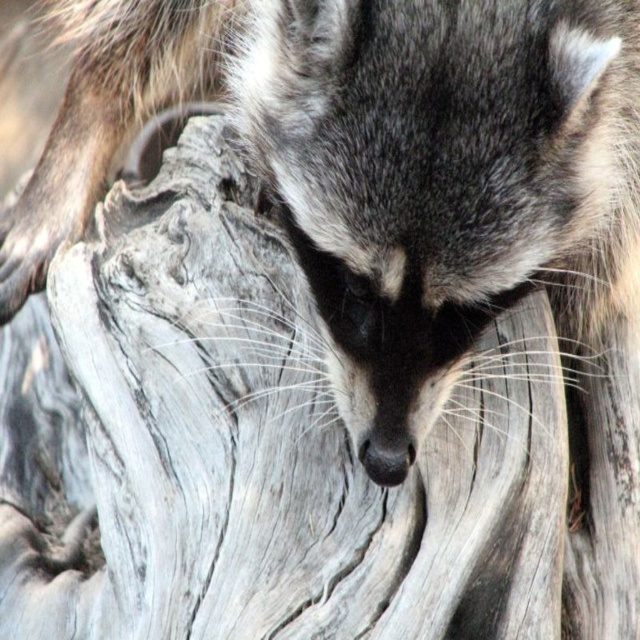Raccoon: (0, 0, 639, 485)
